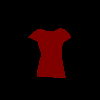t-shirt: (28, 28, 71, 78)
